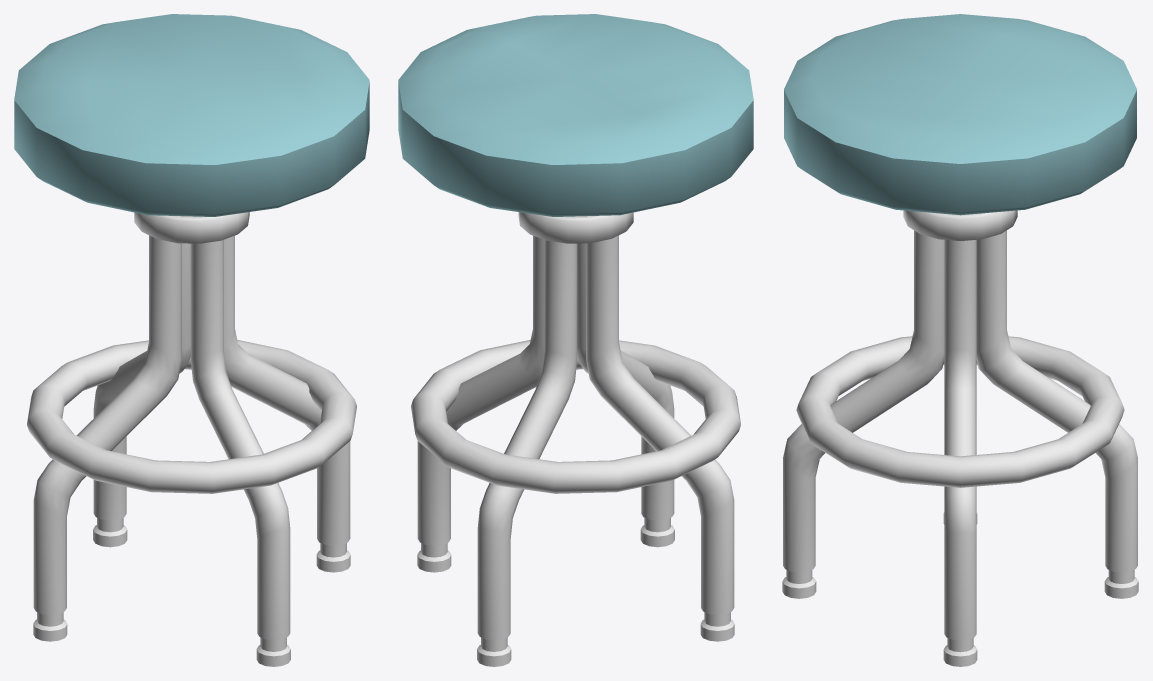
Rendered from HS_I_Chair_Model_V1.FBX.
3 views of the same model, side by side, from view 1: azimuth 30°, elevation 25°; view 2: azimuth 150°, elevation 25°; view 3: azimuth 270°, elevation 25° (orthographic).
Parts seen in each view (by area): view 1: Line095, Cylinder002; view 2: Line095, Cylinder002; view 3: Line095, Cylinder002.
Boxes of the visible parts, x1,y1,x2,y2 form: Line095: (27, 212, 356, 666); Cylinder002: (14, 14, 369, 216); Line095: (411, 212, 740, 666); Cylinder002: (398, 14, 753, 216); Line095: (782, 210, 1138, 666); Cylinder002: (784, 14, 1136, 215).
Size of the model in its own units: 29.54 by 47.12 by 29.54.
